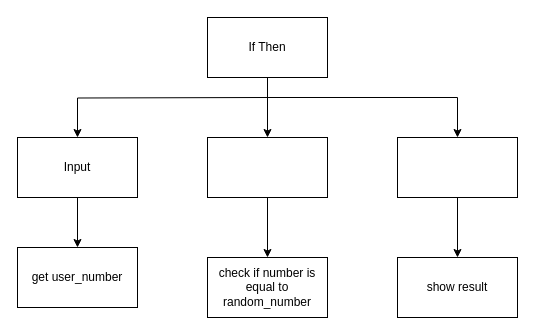
The diagram is 535 pixels wide and 335 high, and some of its shapes have lost their labels. Here are the shapes that lost their labels. From the top down, the box of each, then its label:
(206, 136, 328, 198): Process
(396, 136, 518, 198): Output
